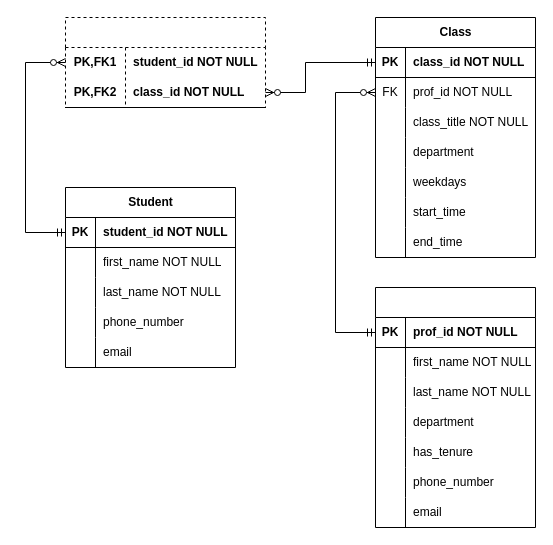
Some shapes in this 553 by 545 pixel diagram are drawn without their labels. The shapes that lost their labels are listed below. From the top down, each one's box as (x1, y1, x2, y2) in pixels, then its label:
(64, 16, 266, 108): Student_Class
(374, 286, 536, 528): Professor
